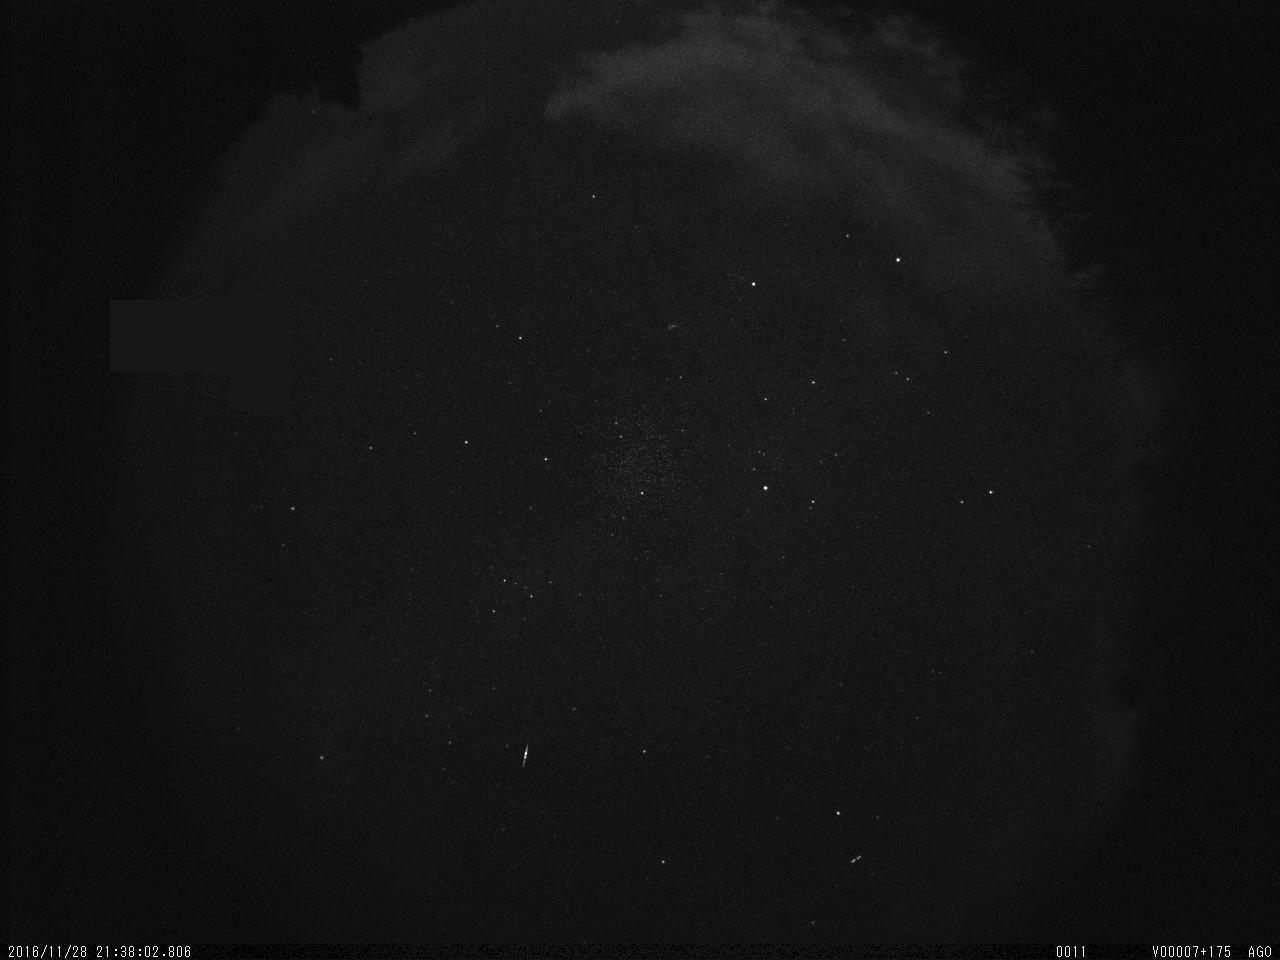meteor: (511, 738, 542, 771)
